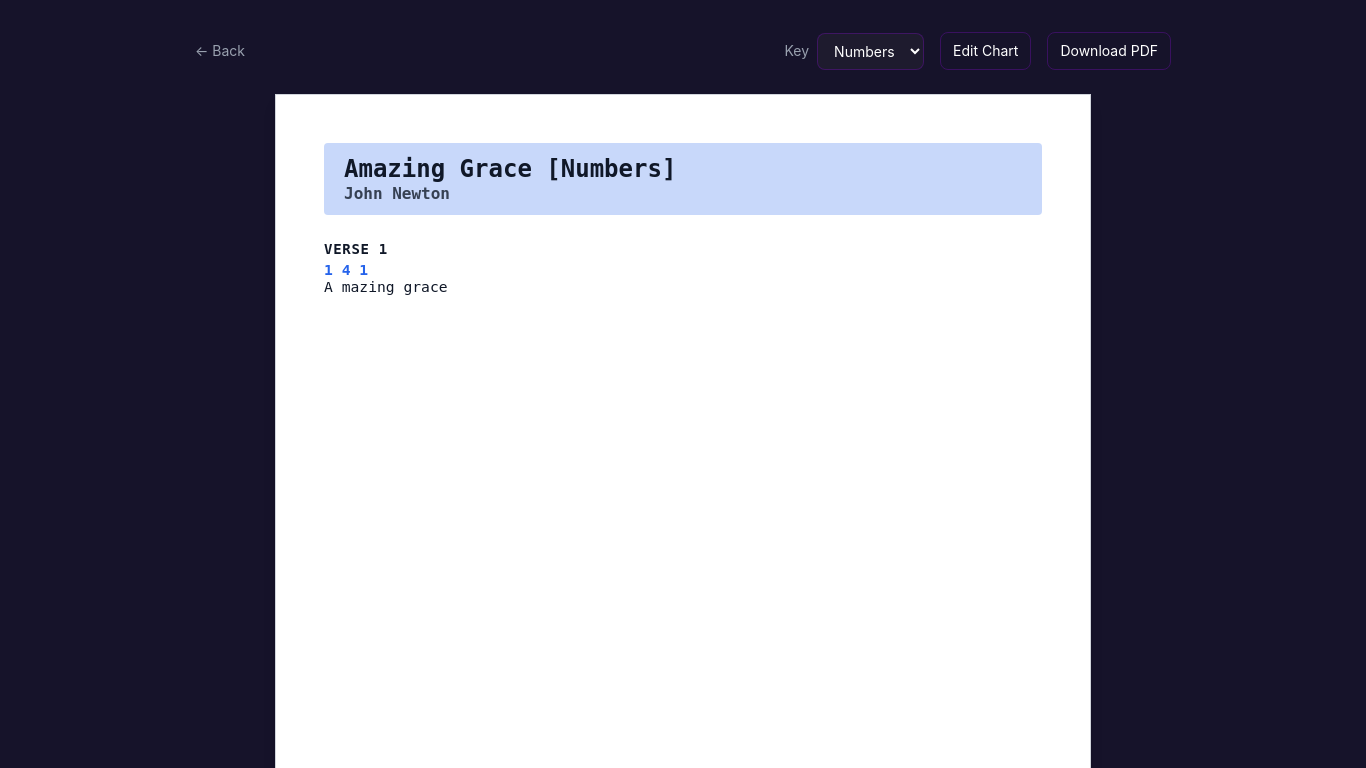
Test: ChartViewerPage (#12) › re-fetches with the chosen key and renders the transposed names when a key is selected
Expected: the text "4" is shown, [342,261,350,278]
Select "G" in the dropdown labelled "Key" at (871, 51), box [817,32,924,70]
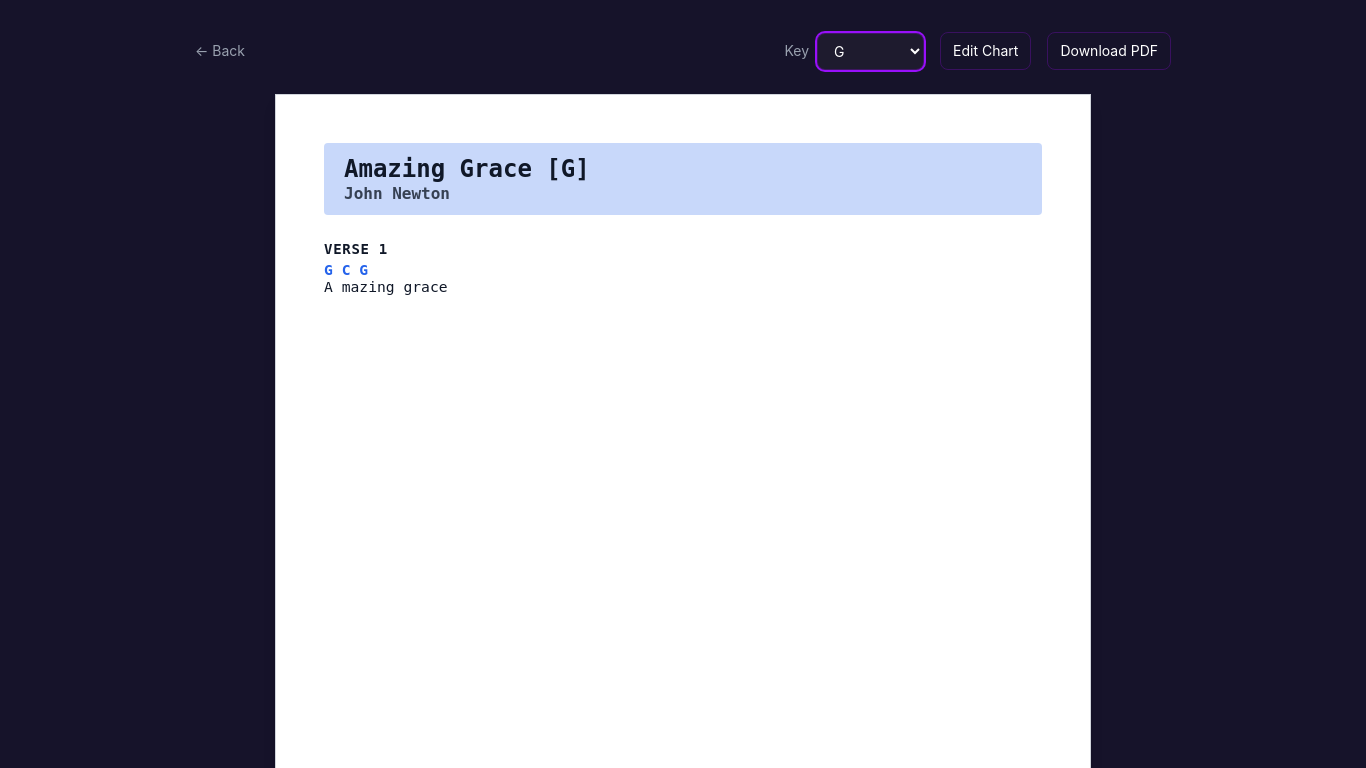
Expected: the text "Amazing Grace [G]" is shown, [344,155,590,183]
